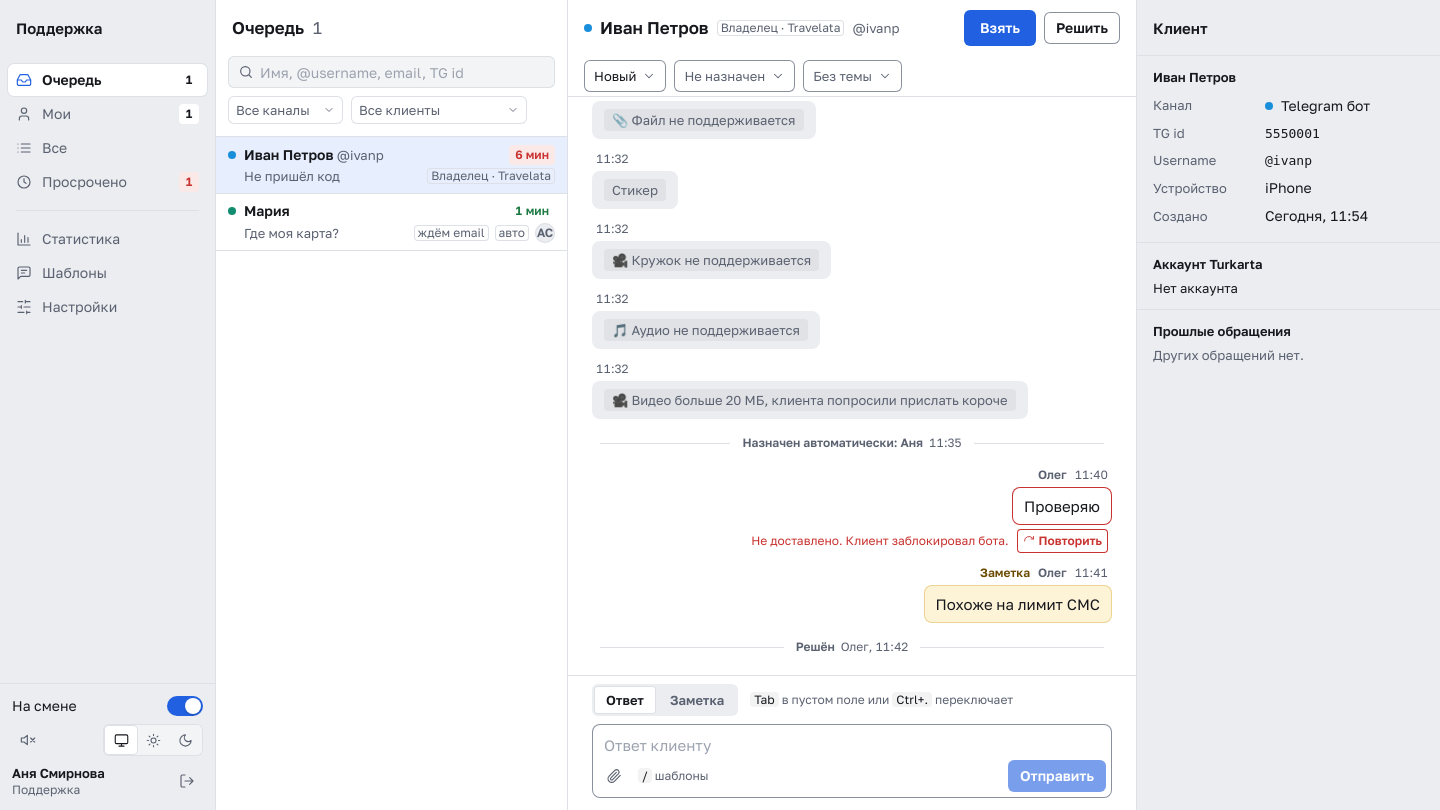
Test case: Inbox › takes a queued ticket from the header and shows the server's row
The width and height of the screenshot is (1440, 810).
(page scrolled)
Click the button "Взять" at (1000,28), box [964,10,1036,46]
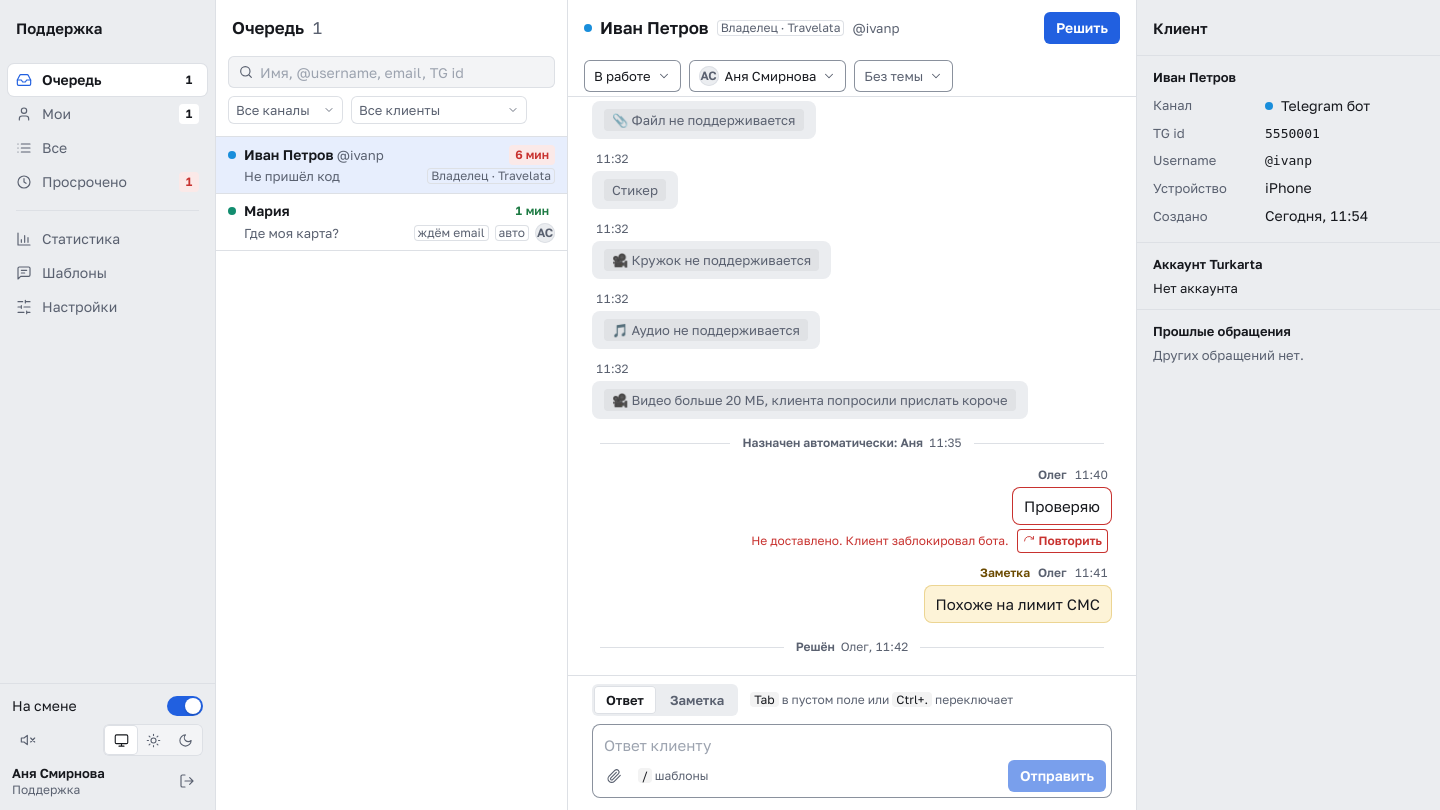
Expected: the button with aria-label "Назначен: Аня Смирнова" is shown, [688,60,846,92]
Expected: the button "Взять" is gone
